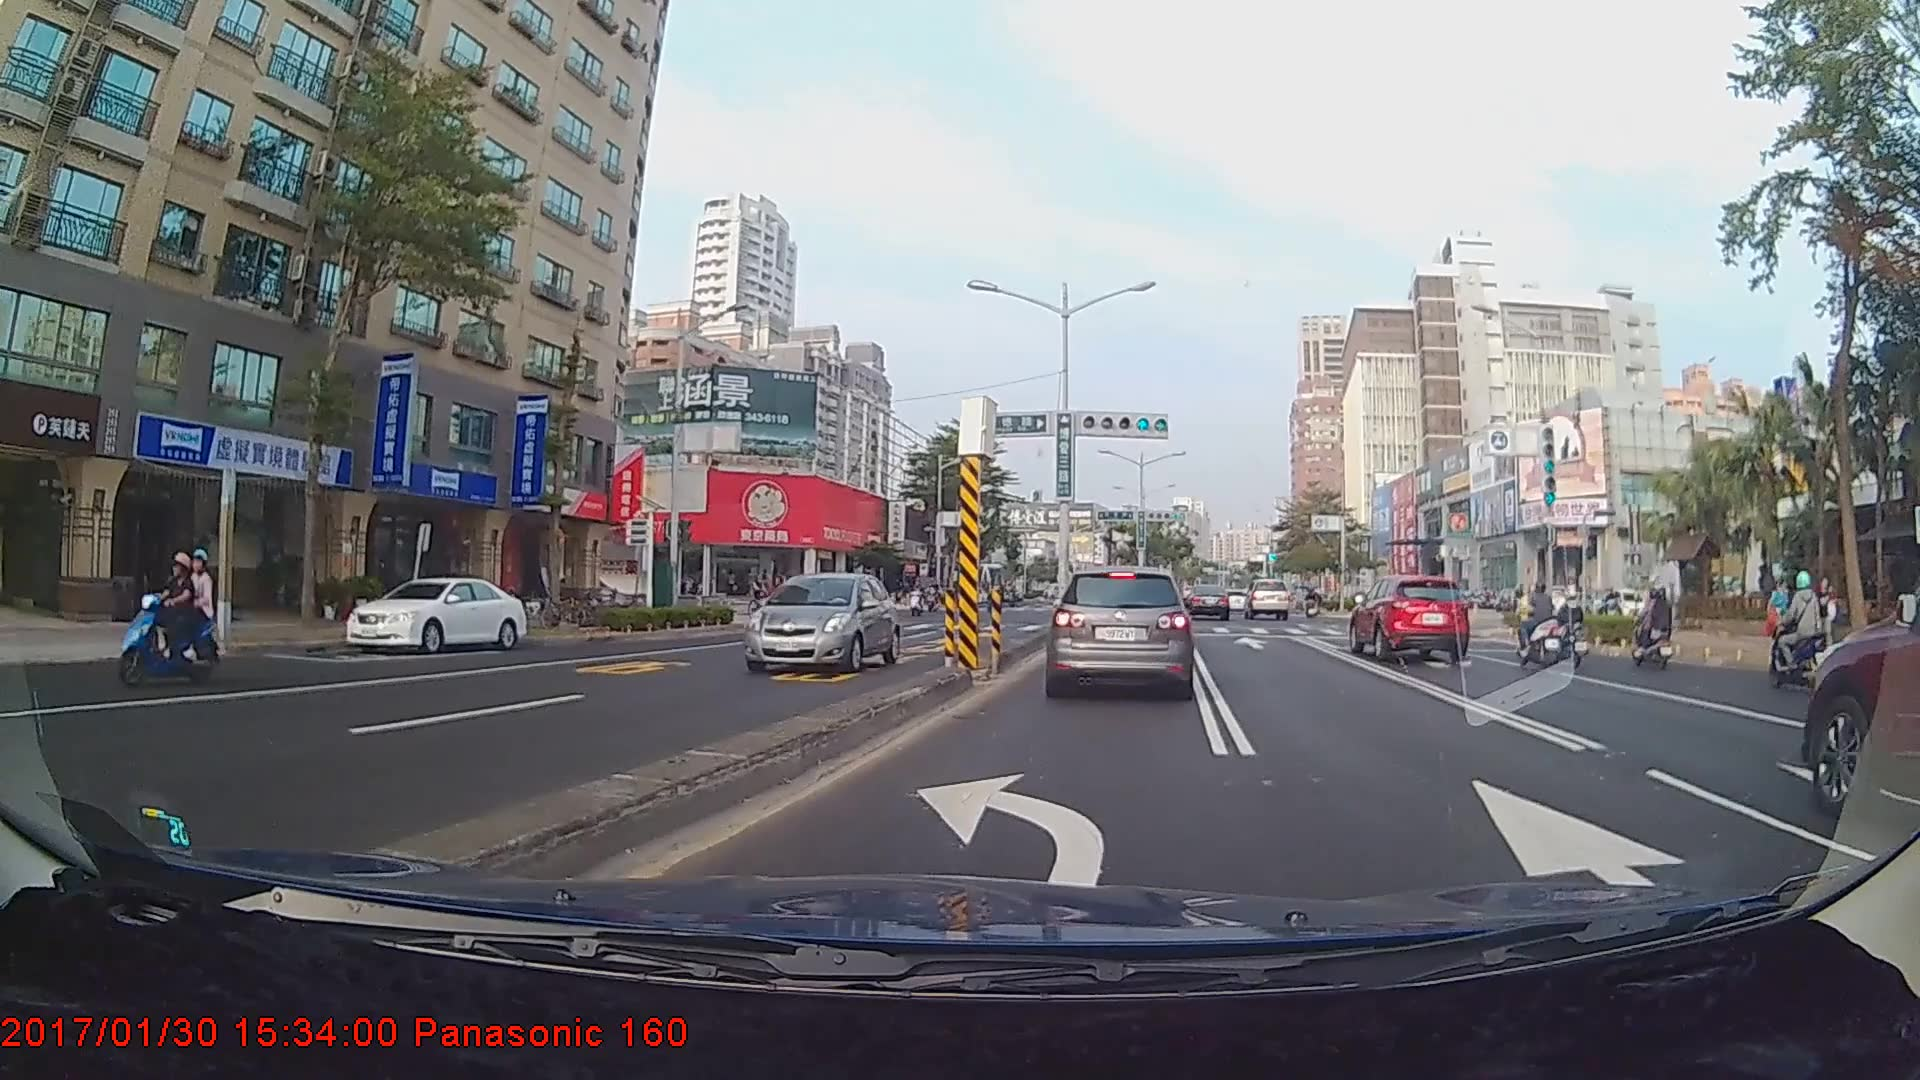pedestrian: (1765, 580, 1792, 653), (1813, 578, 1837, 661)
rider: (113, 551, 224, 694), (1772, 574, 1840, 690), (1511, 579, 1572, 670), (1625, 588, 1678, 672), (739, 572, 777, 619)
vehicle: (1798, 538, 1917, 839), (1044, 563, 1191, 697), (741, 571, 900, 674), (341, 575, 528, 654), (1347, 571, 1475, 661), (1243, 577, 1291, 621), (1184, 584, 1228, 621)
